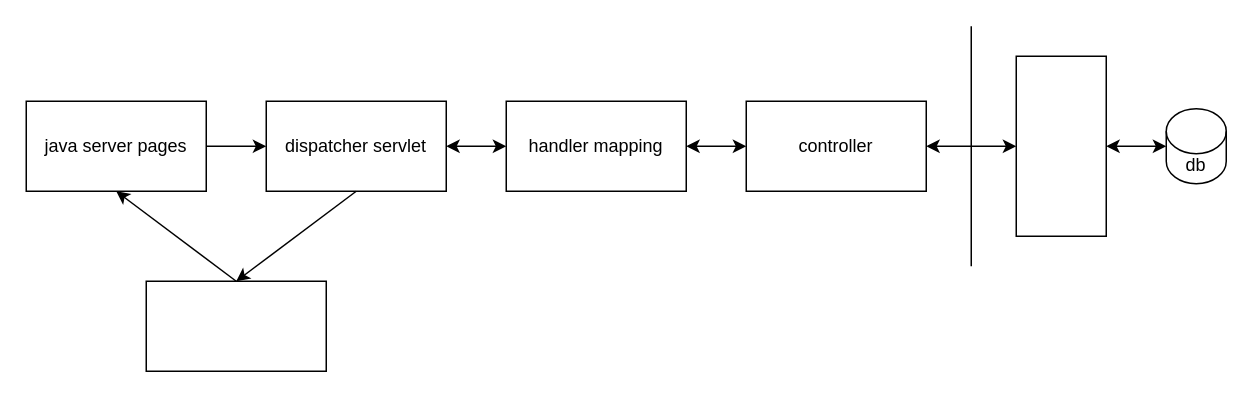
Image size: 1253x398. Some labels were removed from this diagram. Here are the shapes that lost their labels. From the top down, the centre of each, then its label:
At (1060,145): "business logic".
At (235,325): "view resolver".
